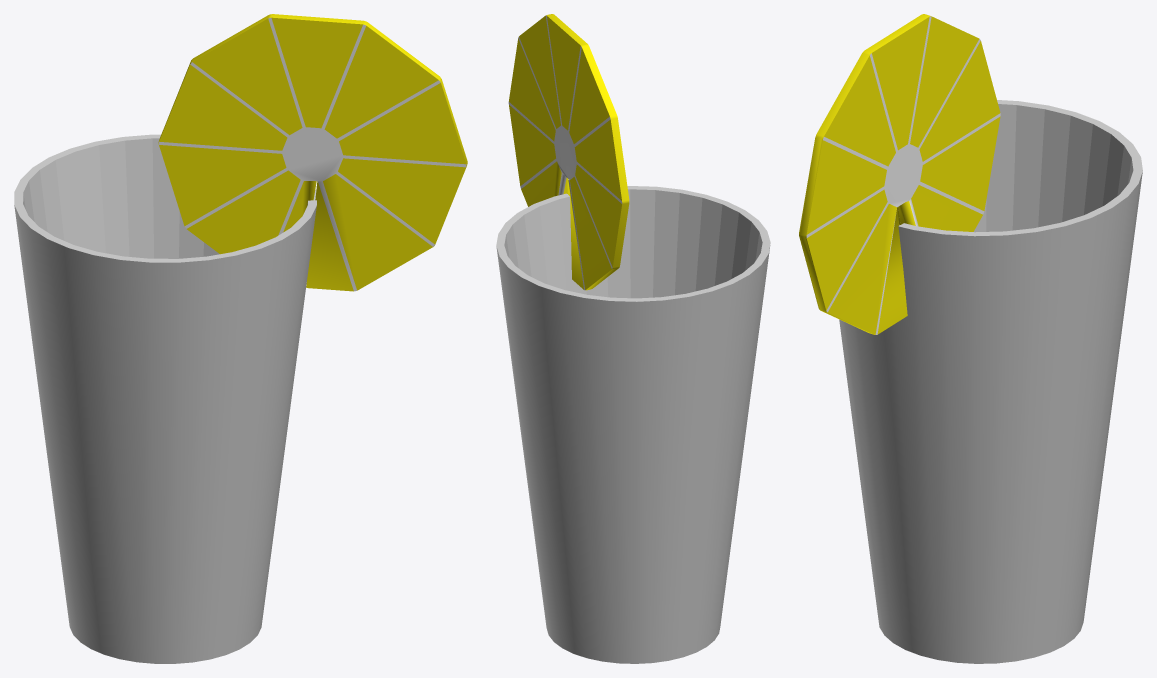
Rendered from 90e45083-dcb7-47b6-817c-11663da62b66.glb.
3 renders of one model, left to right at view 1: azimuth 30°, elevation 25°; view 2: azimuth 150°, elevation 25°; view 3: azimuth 270°, elevation 25°, orthographic. The views are drawn at different scales.
Visible parts, largest first — view 1: Cylinder006, Cylinder005; view 2: Cylinder006, Cylinder005; view 3: Cylinder006, Cylinder005.
Boxes of the visible parts, x1,y1,x2,y2 form: Cylinder006: (14, 134, 316, 663); Cylinder005: (158, 14, 467, 291); Cylinder006: (496, 186, 770, 663); Cylinder005: (508, 14, 629, 290); Cylinder006: (839, 100, 1142, 663); Cylinder005: (799, 14, 1000, 334).
Bounding box in the file's own units: 205385 × 338823 × 163208.
